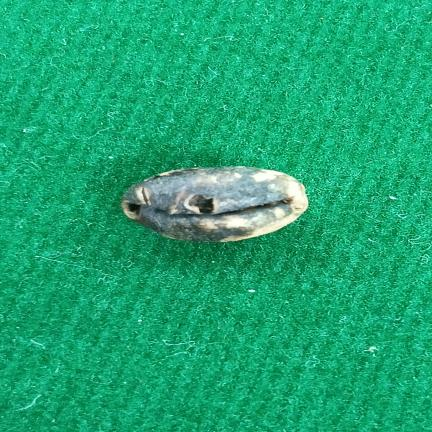partial-black: (122, 166, 308, 242)
